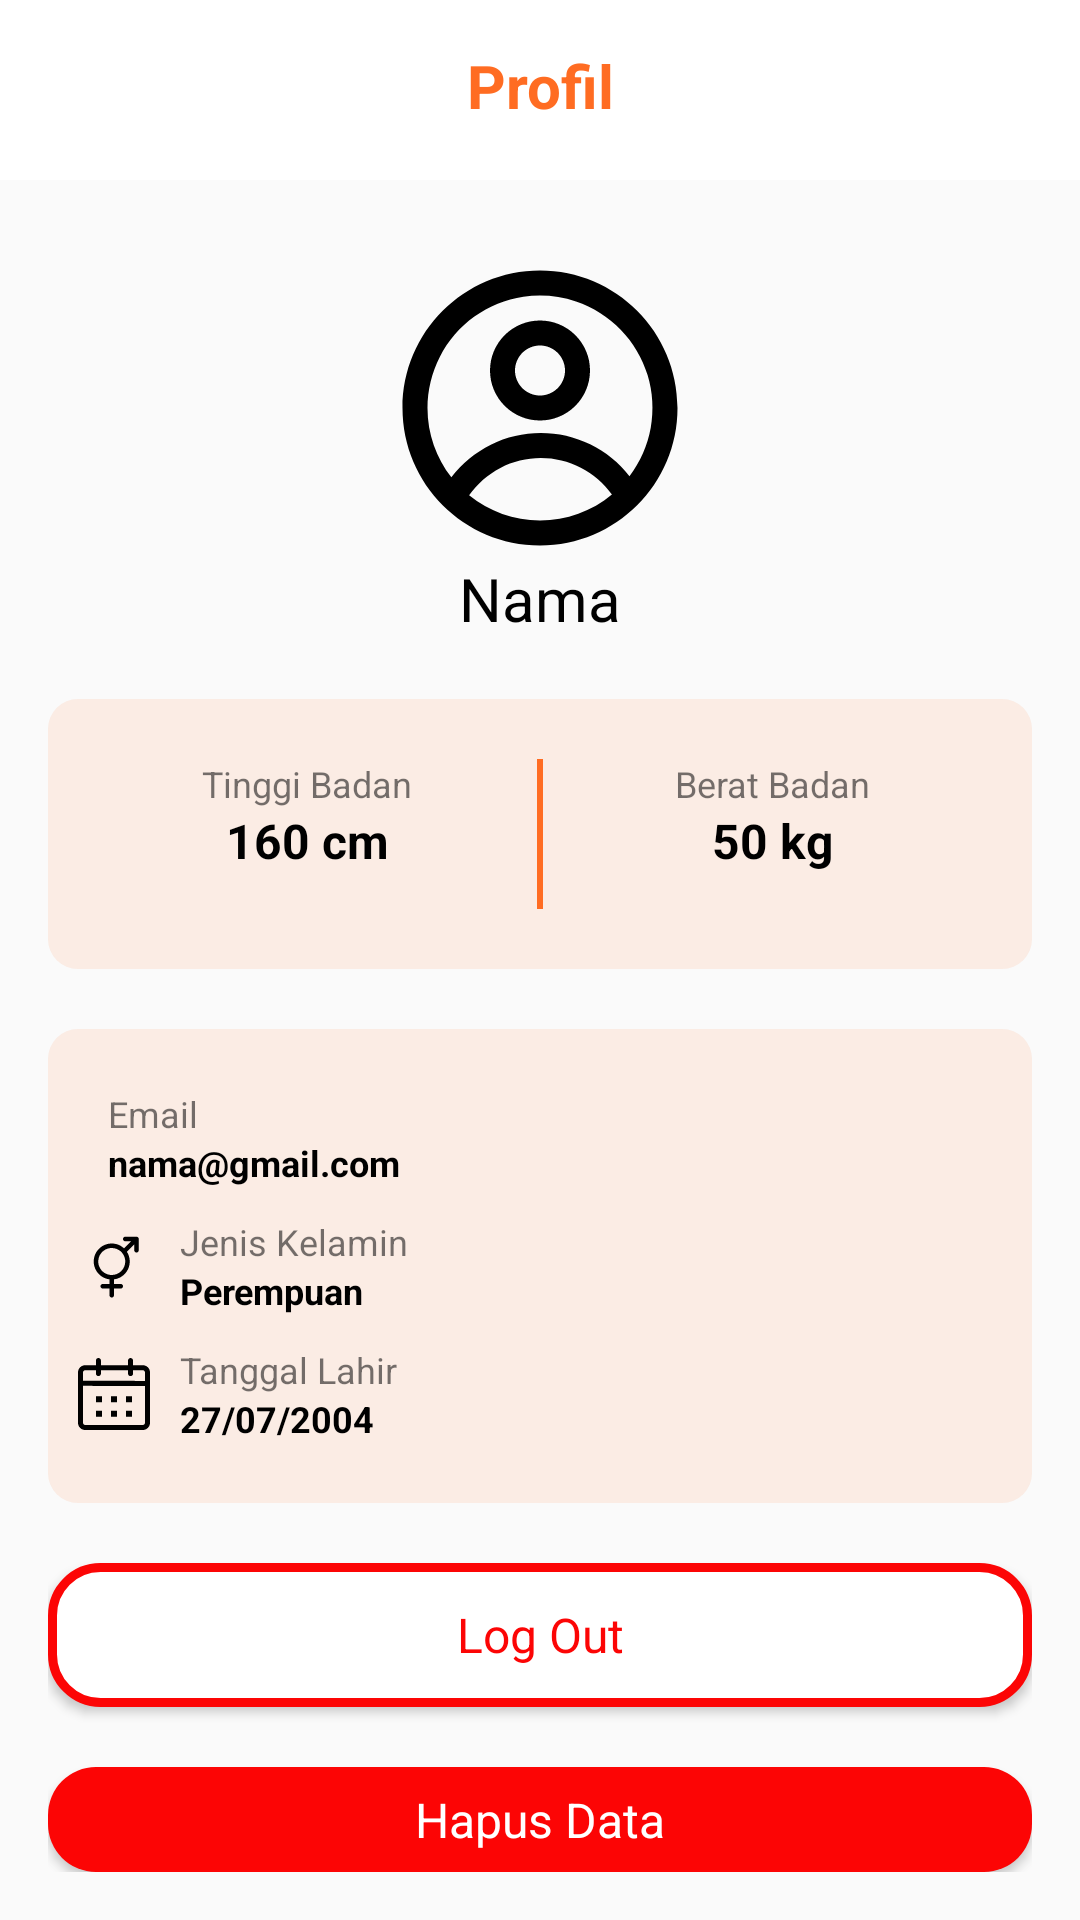

Icon click points for this 1080×1920 phone screenshot, format point (x, y):
date: point (114, 1394)
gender: point (116, 1267)
